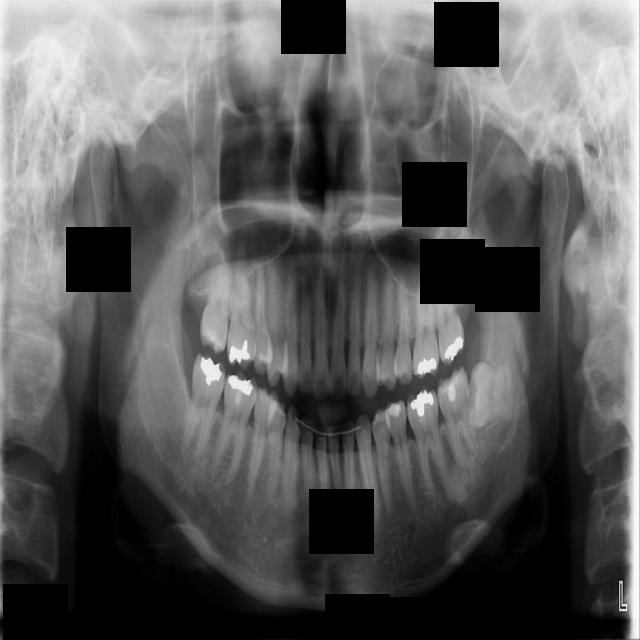52: (403, 386, 442, 432), (190, 355, 228, 402), (224, 325, 259, 371), (223, 374, 256, 417), (437, 370, 469, 413), (437, 325, 464, 367), (413, 340, 439, 380), (384, 402, 405, 436)
73: (589, 541, 597, 557)
BioHorizons Implant: (428, 249, 468, 366)
Biomet 3i Implant: (468, 360, 515, 431)
Blue Sky Bio Implant: (434, 366, 481, 464)
Caries: (199, 238, 232, 353)
Implant: (178, 353, 229, 460)
